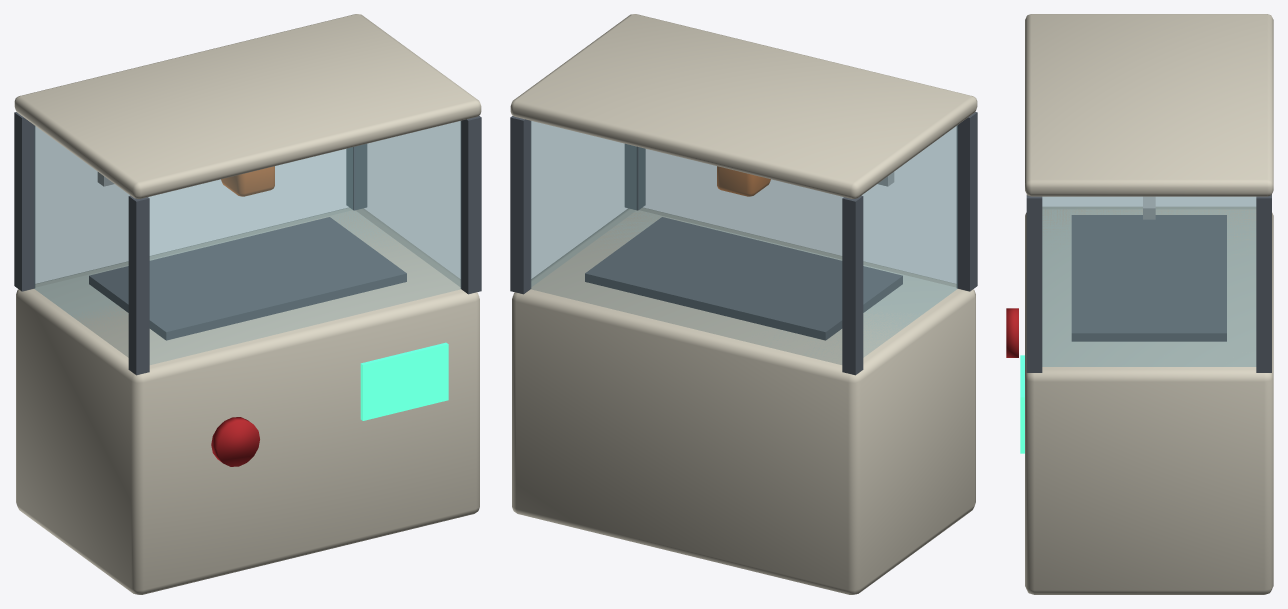
The model's file is printer3d.gltf.
The picture shows the model from 3 angles, left to right: view 1: azimuth 30°, elevation 25°; view 2: azimuth 150°, elevation 25°; view 3: azimuth 270°, elevation 25°; orthographic projection.
Parts seen in each view (by area): view 1: printer3d_mesh, EMIT_screen, ANIM_head; view 2: printer3d_mesh, ANIM_head; view 3: printer3d_mesh, EMIT_screen.
Part boxes in pixels (x1=…): printer3d_mesh: x1=14, y1=14, x2=481, y2=594; EMIT_screen: x1=360, y1=342, x2=448, y2=420; ANIM_head: x1=221, y1=166, x2=274, y2=196; printer3d_mesh: x1=510, y1=14, x2=977, y2=594; ANIM_head: x1=717, y1=166, x2=770, y2=196; printer3d_mesh: x1=1006, y1=14, x2=1273, y2=594; EMIT_screen: x1=1020, y1=355, x2=1024, y2=453.
Size of the model in its own units: 1.3 by 1.48 by 0.86.
